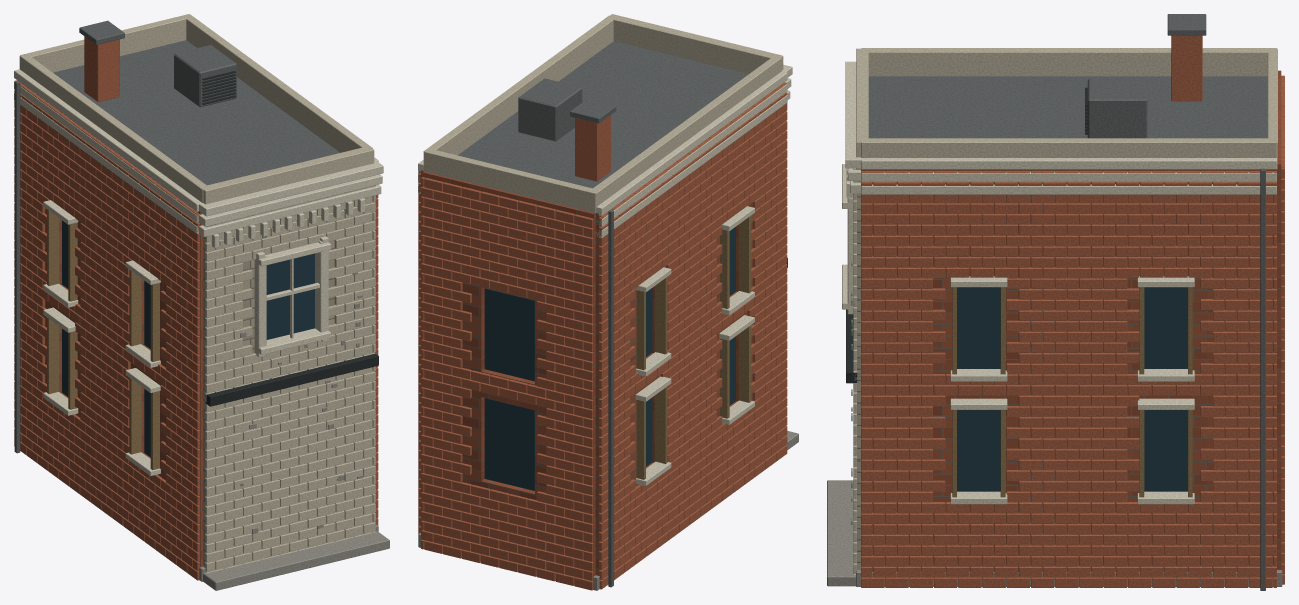
File: WHSE19_lod0.glb
3 views of the same model, side by side, from view 1: azimuth 30°, elevation 25°; view 2: azimuth 150°, elevation 25°; view 3: azimuth 270°, elevation 25° (orthographic). The views are drawn at different scales.
Visible parts, largest first — view 1: WHSE19_LOD0; view 2: WHSE19_LOD0; view 3: WHSE19_LOD0.
Part boxes in pixels (x1,y1,x2,y2): WHSE19_LOD0: (14, 14, 389, 590); WHSE19_LOD0: (418, 14, 798, 590); WHSE19_LOD0: (827, 14, 1284, 590).
Bounding box in the file's own units: 3.71 × 7.85 × 6.6.
Materials: 15 (13 with a texture image).
